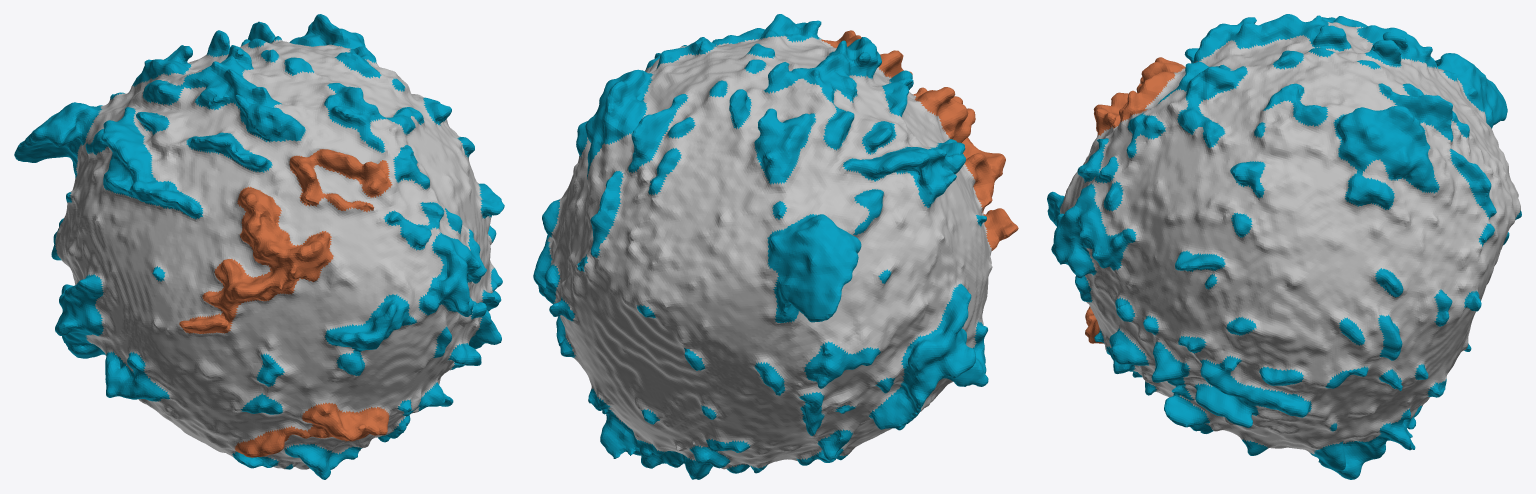
3 renders of one model, left to right at view 1: azimuth 30°, elevation 25°; view 2: azimuth 150°, elevation 25°; view 3: azimuth 270°, elevation 25°, orthographic. The views are drawn at different scales.
Size of the model in its own units: 155 by 151 by 163.
